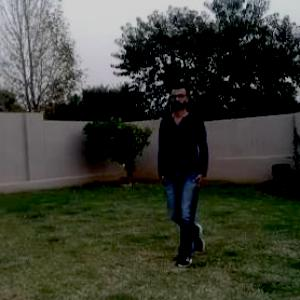follow: (162, 92, 207, 247)
